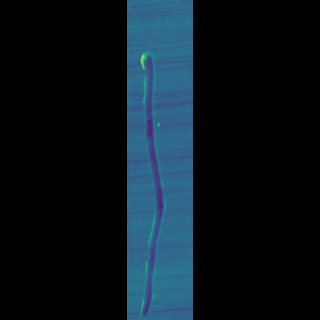Loch: (155, 49, 161, 319)
